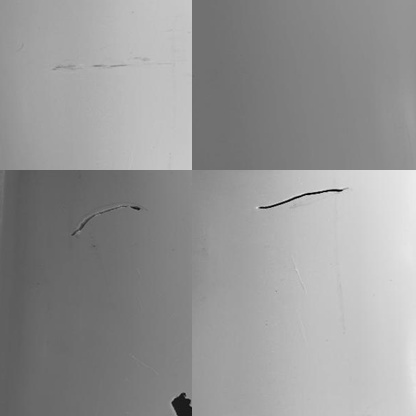fengxi: (254, 183, 358, 212), (69, 201, 145, 240)
kongdong: (168, 388, 195, 415)
